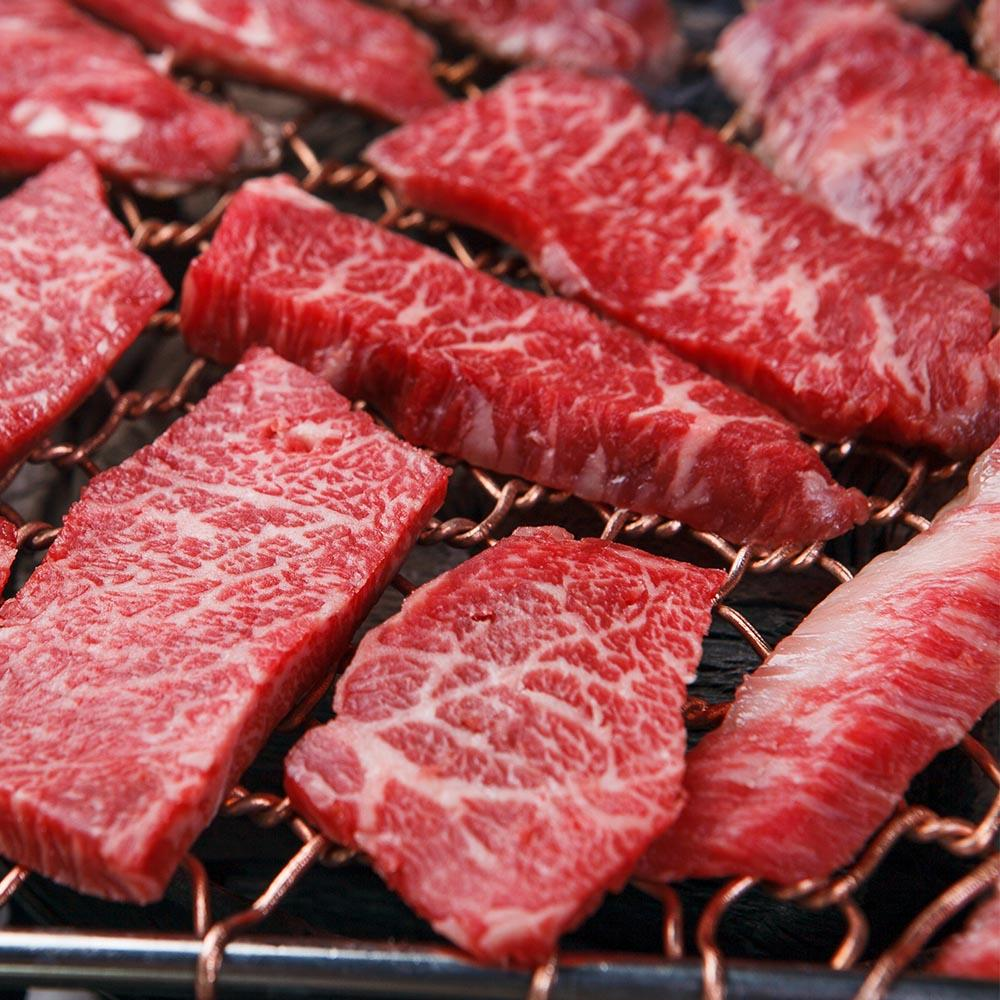beef: (125, 748, 541, 1000), (630, 756, 1000, 1000)
